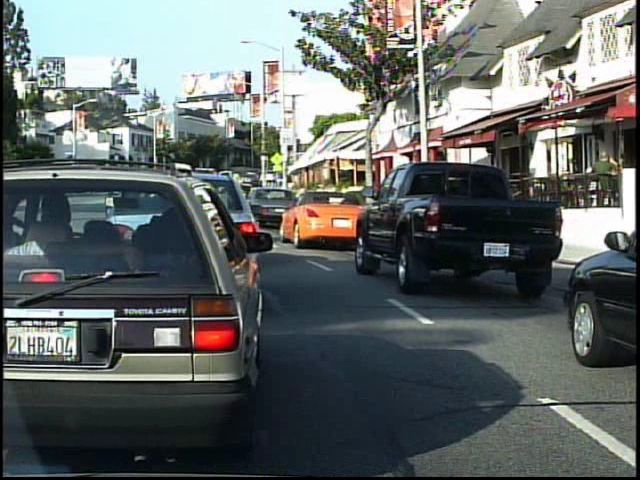person: (588, 143, 622, 226)
